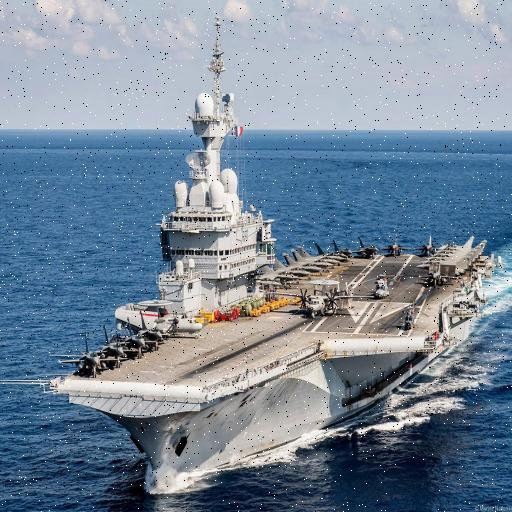Portanaves: (46, 13, 507, 490)
